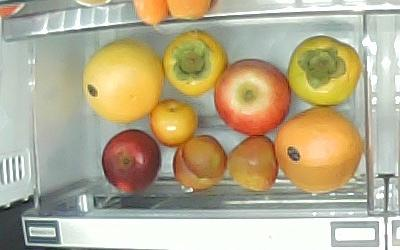apple: (214, 59, 292, 136), (101, 129, 160, 194)
grapefruit: (274, 107, 362, 193), (83, 39, 167, 125)
persimmon: (285, 33, 358, 107), (161, 28, 227, 97)
prune: (224, 134, 279, 193), (171, 134, 227, 189), (149, 98, 199, 147)
